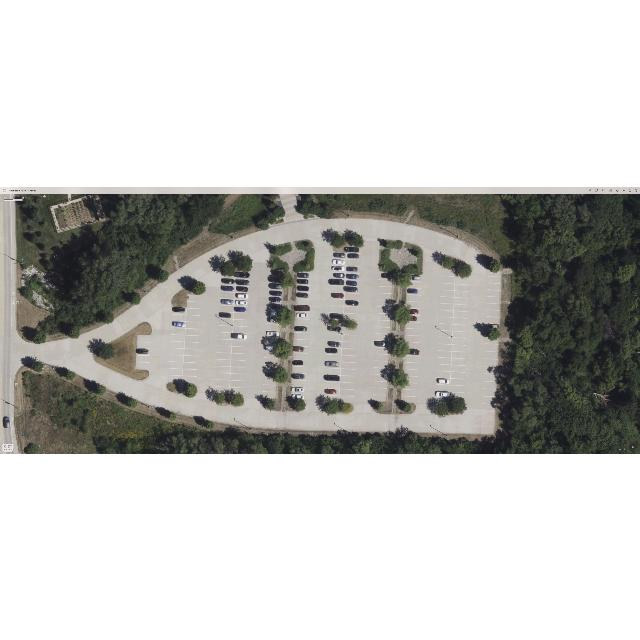Empty: (451, 391, 465, 402), (326, 367, 341, 376), (135, 361, 150, 370), (215, 379, 230, 388), (342, 326, 357, 335), (451, 357, 466, 366), (484, 373, 497, 383), (182, 368, 198, 376), (168, 347, 184, 355), (231, 339, 247, 347), (233, 312, 249, 320), (218, 304, 234, 312), (406, 301, 422, 309), (406, 280, 422, 288), (435, 370, 451, 378), (454, 290, 470, 298), (482, 403, 496, 412), (436, 383, 450, 392), (485, 343, 499, 352), (453, 330, 467, 339), (344, 292, 359, 300), (329, 305, 344, 313), (342, 334, 357, 342), (342, 341, 357, 349), (341, 354, 356, 362), (374, 360, 389, 368), (325, 381, 340, 389), (136, 341, 151, 349), (182, 375, 197, 383), (183, 362, 198, 370), (184, 341, 199, 349), (186, 307, 201, 315), (187, 301, 202, 309), (215, 386, 230, 394), (229, 387, 244, 395), (215, 372, 230, 380), (230, 366, 245, 374), (231, 359, 246, 367), (217, 352, 232, 360), (217, 345, 232, 353), (232, 325, 247, 333), (233, 319, 248, 327), (262, 391, 277, 399), (265, 357, 280, 365), (264, 350, 279, 358), (339, 396, 354, 404), (343, 313, 358, 321), (266, 323, 281, 331), (404, 355, 419, 363), (377, 305, 392, 313), (405, 335, 420, 343), (480, 426, 495, 434), (481, 411, 496, 419), (482, 396, 497, 404), (451, 364, 466, 372), (437, 357, 452, 365), (452, 344, 467, 352), (454, 296, 469, 304), (454, 283, 469, 291), (455, 276, 470, 284), (346, 259, 361, 267), (330, 298, 344, 306), (378, 285, 392, 293), (373, 387, 387, 395), (375, 353, 389, 361), (374, 367, 388, 375), (340, 382, 354, 390), (293, 366, 307, 374), (184, 348, 198, 356), (186, 321, 200, 329), (186, 314, 200, 322), (171, 314, 187, 321), (188, 294, 202, 302), (230, 372, 244, 380), (232, 346, 246, 354), (217, 332, 233, 339), (217, 325, 233, 332), (219, 318, 233, 326), (263, 384, 277, 392), (294, 352, 308, 360), (339, 389, 355, 396), (325, 354, 341, 361), (328, 333, 342, 341), (403, 395, 417, 403), (377, 312, 391, 320), (483, 388, 497, 396), (483, 381, 497, 389), (485, 351, 499, 359), (485, 336, 499, 344), (451, 371, 465, 379), (437, 364, 451, 372), (452, 351, 466, 359), (453, 337, 467, 345), (439, 336, 453, 344), (453, 317, 467, 325), (454, 310, 468, 318), (454, 303, 468, 311), (441, 289, 455, 297), (441, 275, 455, 283), (487, 295, 501, 303), (343, 306, 358, 313), (341, 348, 356, 355), (340, 369, 355, 376), (373, 374, 388, 381), (183, 356, 198, 363), (170, 341, 185, 348), (171, 327, 186, 334), (216, 359, 231, 366), (231, 353, 246, 360), (220, 291, 235, 298), (262, 377, 277, 384), (263, 371, 278, 378), (324, 395, 339, 402), (295, 319, 310, 326), (329, 285, 344, 292), (403, 369, 418, 376), (375, 333, 390, 340), (405, 342, 420, 349), (406, 321, 421, 328), (407, 294, 422, 301), (377, 299, 392, 306), (378, 279, 393, 286), (480, 419, 495, 426), (450, 385, 465, 392), (451, 378, 466, 385), (486, 316, 501, 323), (293, 379, 306, 387), (485, 366, 498, 374), (485, 358, 498, 366), (487, 309, 500, 317), (488, 282, 501, 290), (373, 394, 387, 401), (136, 355, 150, 362), (169, 368, 183, 375), (169, 354, 183, 361), (171, 334, 185, 341), (185, 335, 199, 342), (230, 380, 244, 387), (218, 339, 232, 346), (264, 364, 278, 371), (341, 362, 355, 369), (295, 339, 309, 346), (295, 332, 309, 339), (296, 298, 310, 305), (374, 381, 388, 388), (403, 389, 417, 396), (403, 382, 417, 389), (404, 376, 418, 383), (404, 362, 418, 369), (375, 347, 389, 354), (406, 328, 420, 335), (378, 293, 392, 300), (438, 350, 452, 357), (438, 344, 452, 351), (439, 330, 453, 337), (453, 324, 467, 331), (439, 323, 453, 330), (440, 310, 454, 317), (440, 303, 454, 310), (487, 303, 501, 310), (487, 276, 501, 283), (169, 375, 182, 382), (170, 361, 183, 368), (186, 328, 199, 335), (265, 337, 278, 344), (377, 320, 390, 327), (441, 296, 454, 303), (488, 289, 501, 296), (340, 376, 355, 382), (216, 366, 230, 372), (376, 327, 390, 333), (439, 317, 453, 323), (441, 283, 455, 289), (138, 335, 151, 341)
Parked: (402, 347, 419, 356), (171, 305, 187, 314), (328, 324, 342, 334), (434, 390, 451, 398), (405, 308, 422, 316), (221, 276, 236, 285), (267, 315, 282, 324), (268, 295, 283, 304), (270, 274, 283, 284), (333, 249, 346, 259), (324, 374, 340, 382), (292, 345, 308, 353), (435, 377, 451, 385), (405, 314, 421, 322), (406, 287, 422, 295), (327, 347, 342, 355), (345, 272, 360, 280), (346, 252, 361, 260), (265, 330, 280, 338), (235, 278, 250, 286), (171, 320, 186, 328), (291, 393, 306, 401), (295, 304, 310, 312), (219, 311, 234, 319), (345, 245, 360, 253), (407, 273, 422, 281), (328, 340, 342, 348), (343, 299, 359, 306), (346, 265, 360, 273), (297, 284, 311, 292), (297, 291, 311, 299), (296, 311, 310, 319), (234, 305, 248, 313), (292, 386, 306, 394), (325, 388, 339, 396), (295, 325, 309, 333), (330, 291, 344, 299), (329, 278, 345, 285), (331, 271, 345, 279), (291, 373, 307, 380), (329, 312, 343, 320), (293, 360, 308, 367), (326, 361, 341, 368), (344, 286, 359, 293), (297, 278, 312, 285), (232, 333, 247, 340), (220, 298, 235, 305), (234, 292, 249, 299), (136, 348, 151, 355), (235, 285, 250, 292), (234, 299, 249, 306), (267, 303, 282, 310), (265, 344, 278, 352), (271, 268, 284, 276), (376, 340, 390, 347), (345, 279, 359, 286), (332, 258, 346, 265), (298, 272, 312, 279), (221, 285, 235, 292), (236, 271, 250, 278), (269, 282, 282, 289), (267, 310, 282, 316), (268, 289, 282, 295)
